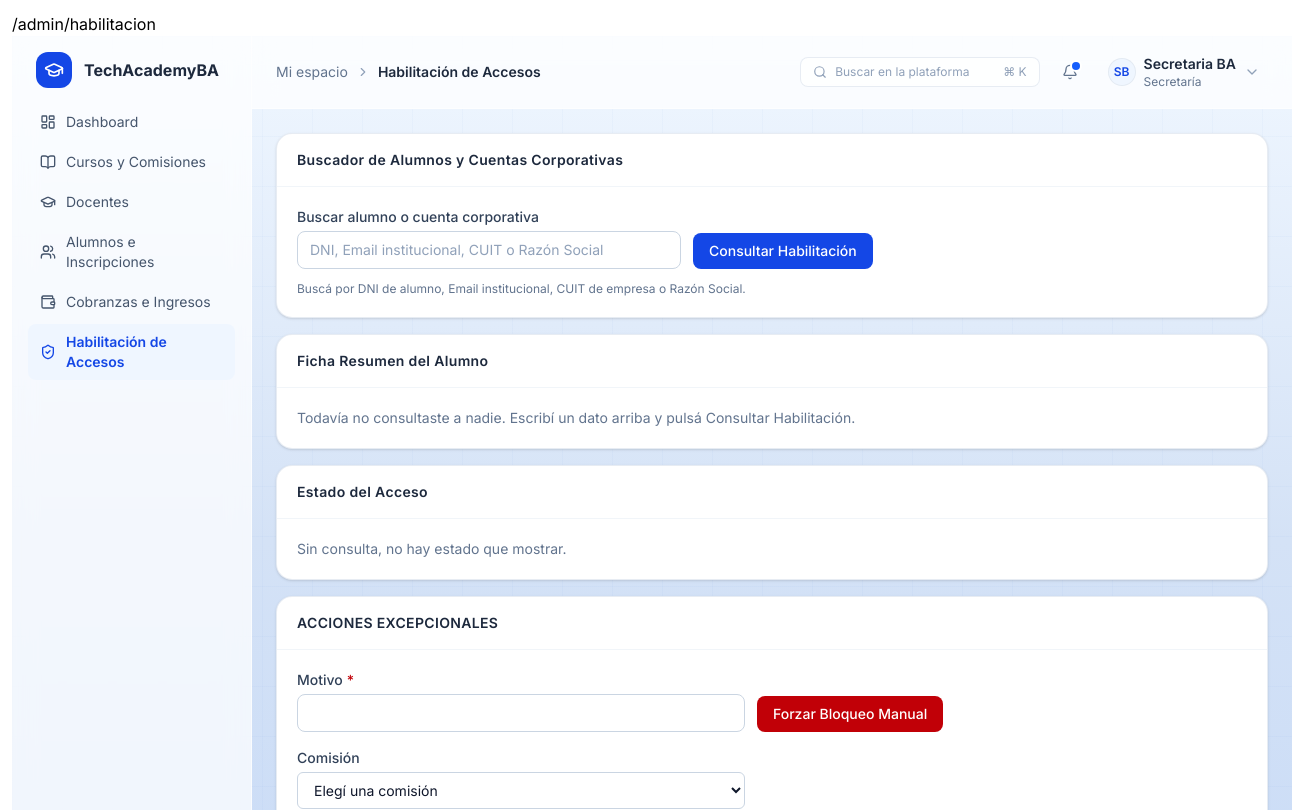
Test: consulta de un alumno › muestra el acceso habilitado con su texto de apoyo
expect the heading "Buscador de Alumnos y Cuentas Corporativas" is shown: met, box [297,150,623,170]
Type "38.456.789" into the field labelled "Buscar alumno o cuenta corporativa". click: (489, 250)
box: [297,231,681,269]
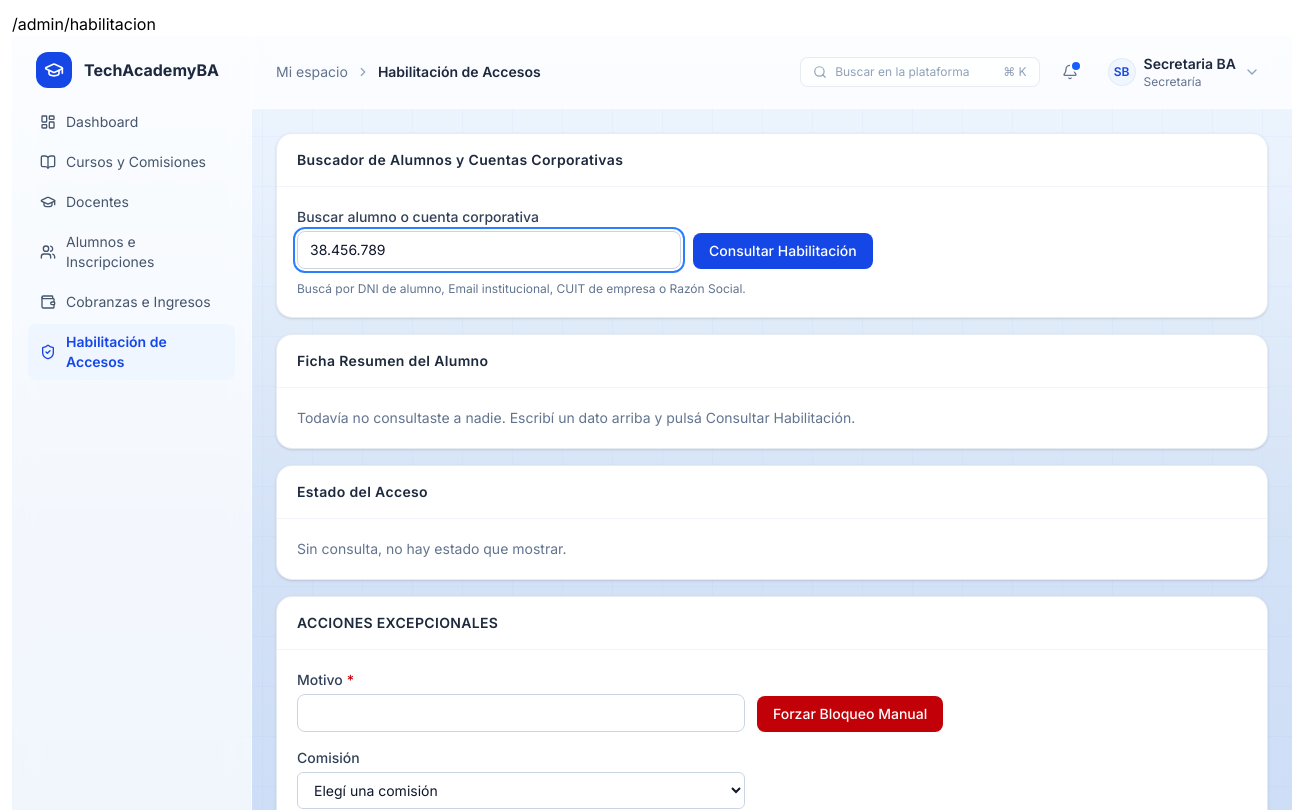
Click the button "Consultar Habilitación". click: (783, 251)
box: [693,233,873,269]
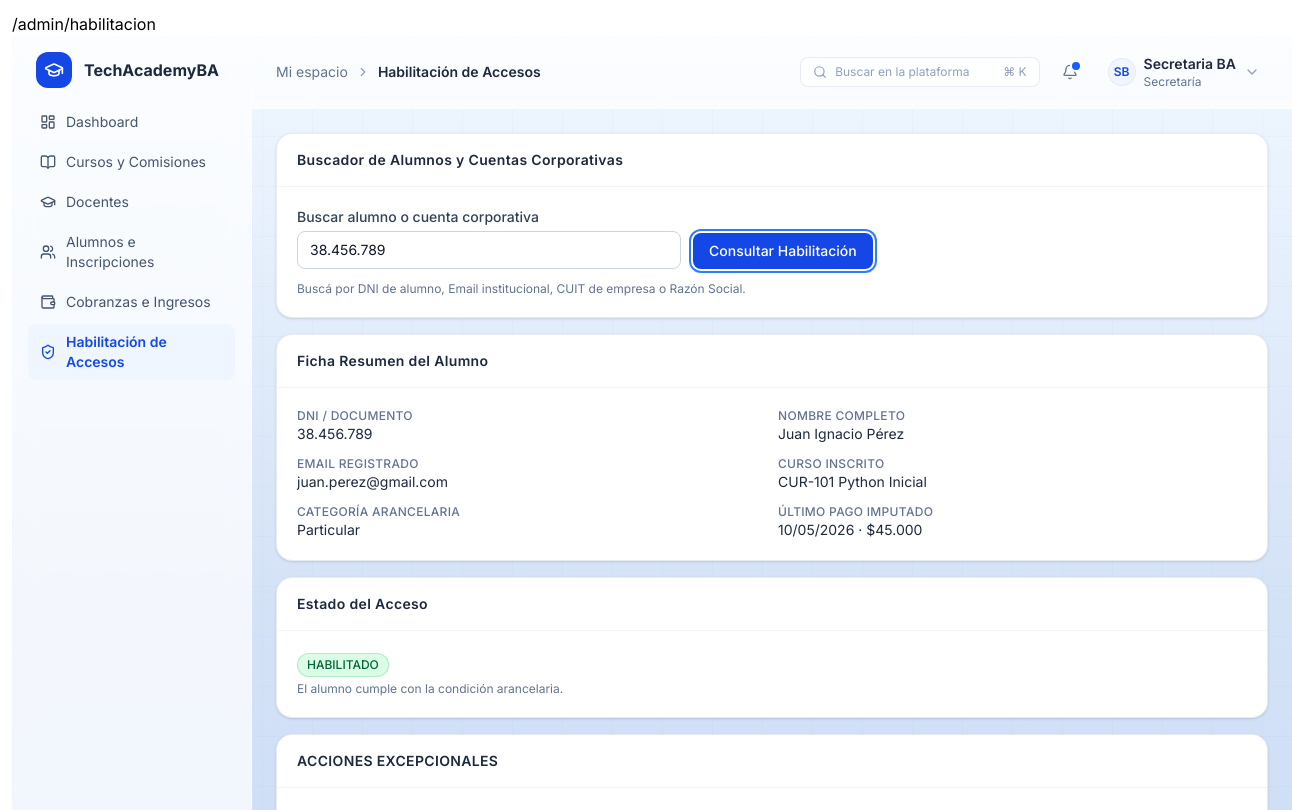
expect the text "Juan Ignacio Pérez" is shown: met, box [778,425,904,442]
expect the text "HABILITADO" is shown: met, box [297,653,389,677]
expect the text "El alumno cumple con la condición arancelaria." is shown: met, box [297,681,563,697]
